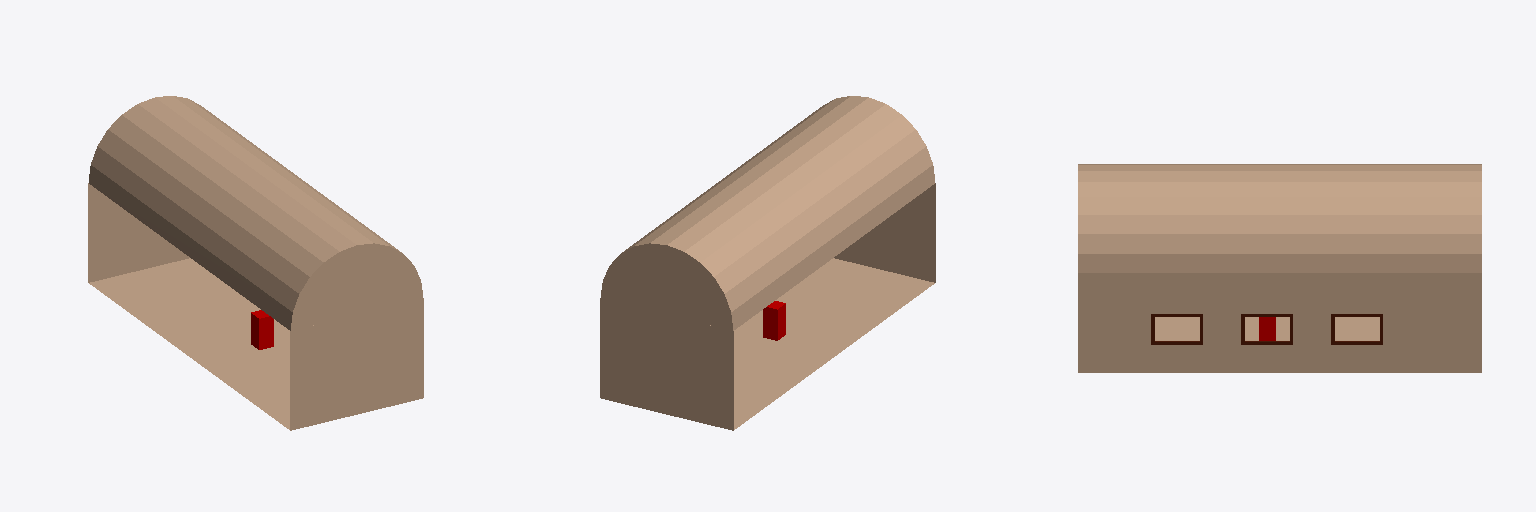
The model's file is gallery2.obj.
3 views of the same model, side by side, from view 1: azimuth 30°, elevation 25°; view 2: azimuth 150°, elevation 25°; view 3: azimuth 270°, elevation 25° (orthographic).
Visible parts, largest first — view 1: Gallery_Roof, Gallery_Room, Human; view 2: Gallery_Roof, Gallery_Room, Human; view 3: Gallery_Roof, Gallery_Room, Frame1, Frame2, Frame3.
Part boxes in pixels (bbox=[...]): Gallery_Roof: bbox=[89, 96, 423, 330]; Gallery_Room: bbox=[88, 183, 423, 430]; Human: bbox=[251, 310, 273, 349]; Gallery_Roof: bbox=[600, 96, 934, 330]; Gallery_Room: bbox=[600, 183, 935, 430]; Human: bbox=[763, 301, 785, 340]; Gallery_Roof: bbox=[1078, 164, 1481, 272]; Gallery_Room: bbox=[1078, 273, 1481, 372]; Frame1: bbox=[1331, 314, 1382, 344]; Frame2: bbox=[1241, 314, 1292, 344]; Frame3: bbox=[1151, 314, 1202, 344].
Size of the model in its own units: 8.84 by 10.76 by 23.25.